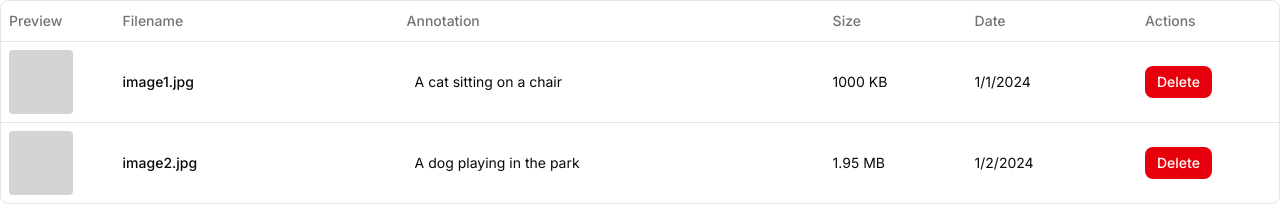
Test: ImageTable › should navigate between annotations with Tab key
This screenshot has width=1280, height=221.
// Click on first annotation to start editing
Click the text "A cat sitting on a chair": click(488, 81) [415,72,562,90]
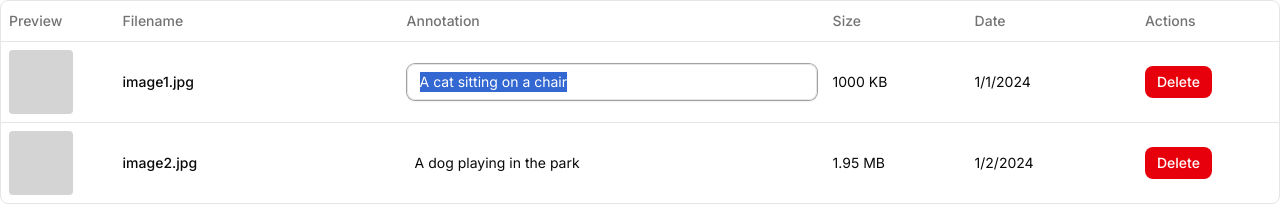
Expected: the field showing "A cat sitting on a chair" is shown, [407,64,817,100]
// Press Tab to move to next annotation
Press Tab
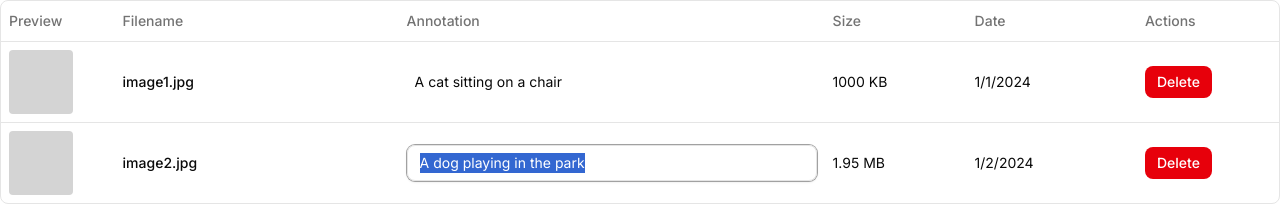
Expected: the field showing "A dog playing in the park" is shown, [407,144,817,180]
